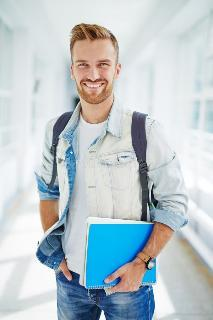person - v3 P: (37, 24, 154, 319)
